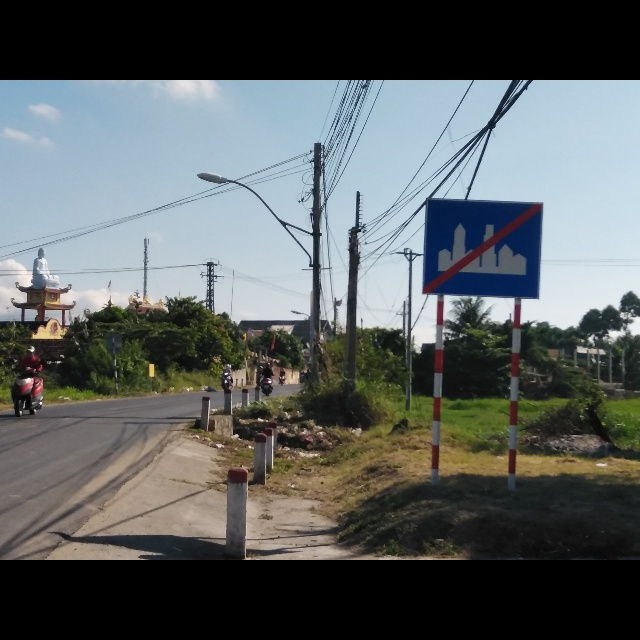Hết khu đông dân cư: (422, 196, 541, 299)
